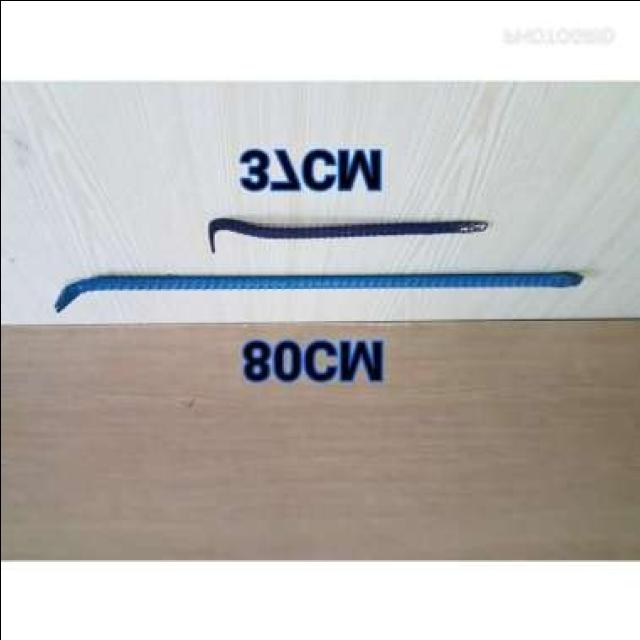Linggis: (50, 265, 586, 316)
